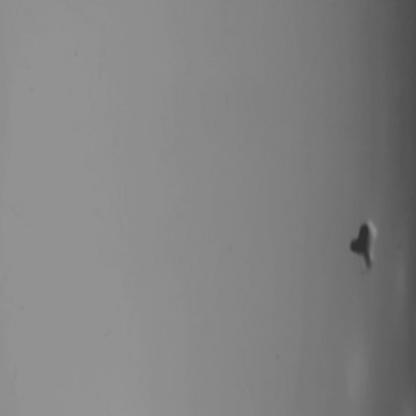kongdong: (335, 207, 383, 271)
